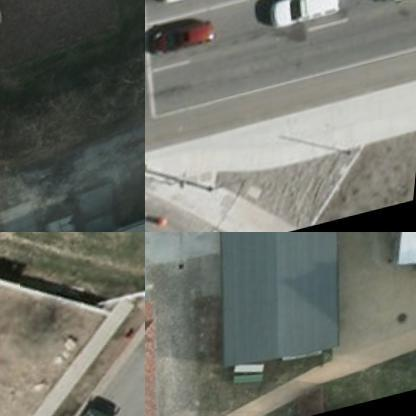car: (145, 12, 224, 63), (266, 0, 352, 34), (157, 0, 237, 10)
